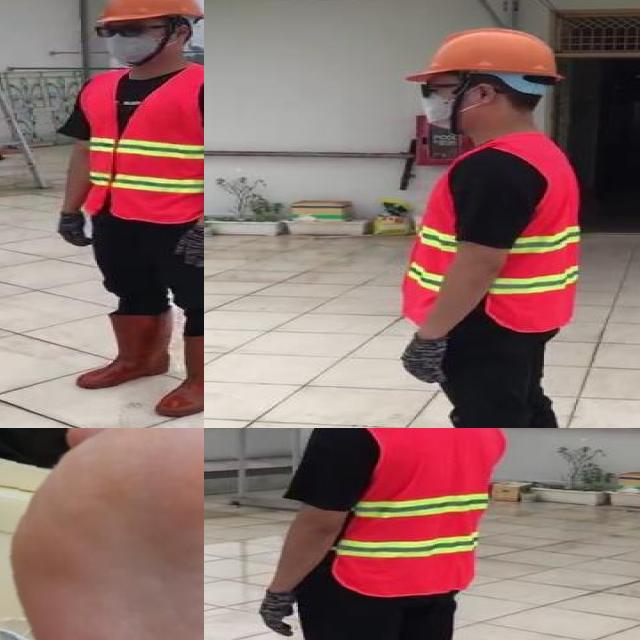Barefoots: (0, 428, 204, 640)
boots: (80, 311, 174, 388), (153, 333, 204, 417)
face_mask: (412, 78, 489, 130), (94, 21, 172, 66)
glasses: (91, 21, 158, 43)
hand_glove: (399, 332, 449, 386), (259, 587, 305, 640), (56, 210, 95, 245), (173, 224, 204, 268)
head_helmet: (402, 28, 564, 84), (92, 0, 204, 22)
person: (372, 25, 596, 428), (48, 0, 204, 422), (240, 428, 517, 640)
vest: (393, 133, 579, 333), (324, 428, 506, 596), (79, 68, 204, 220)
